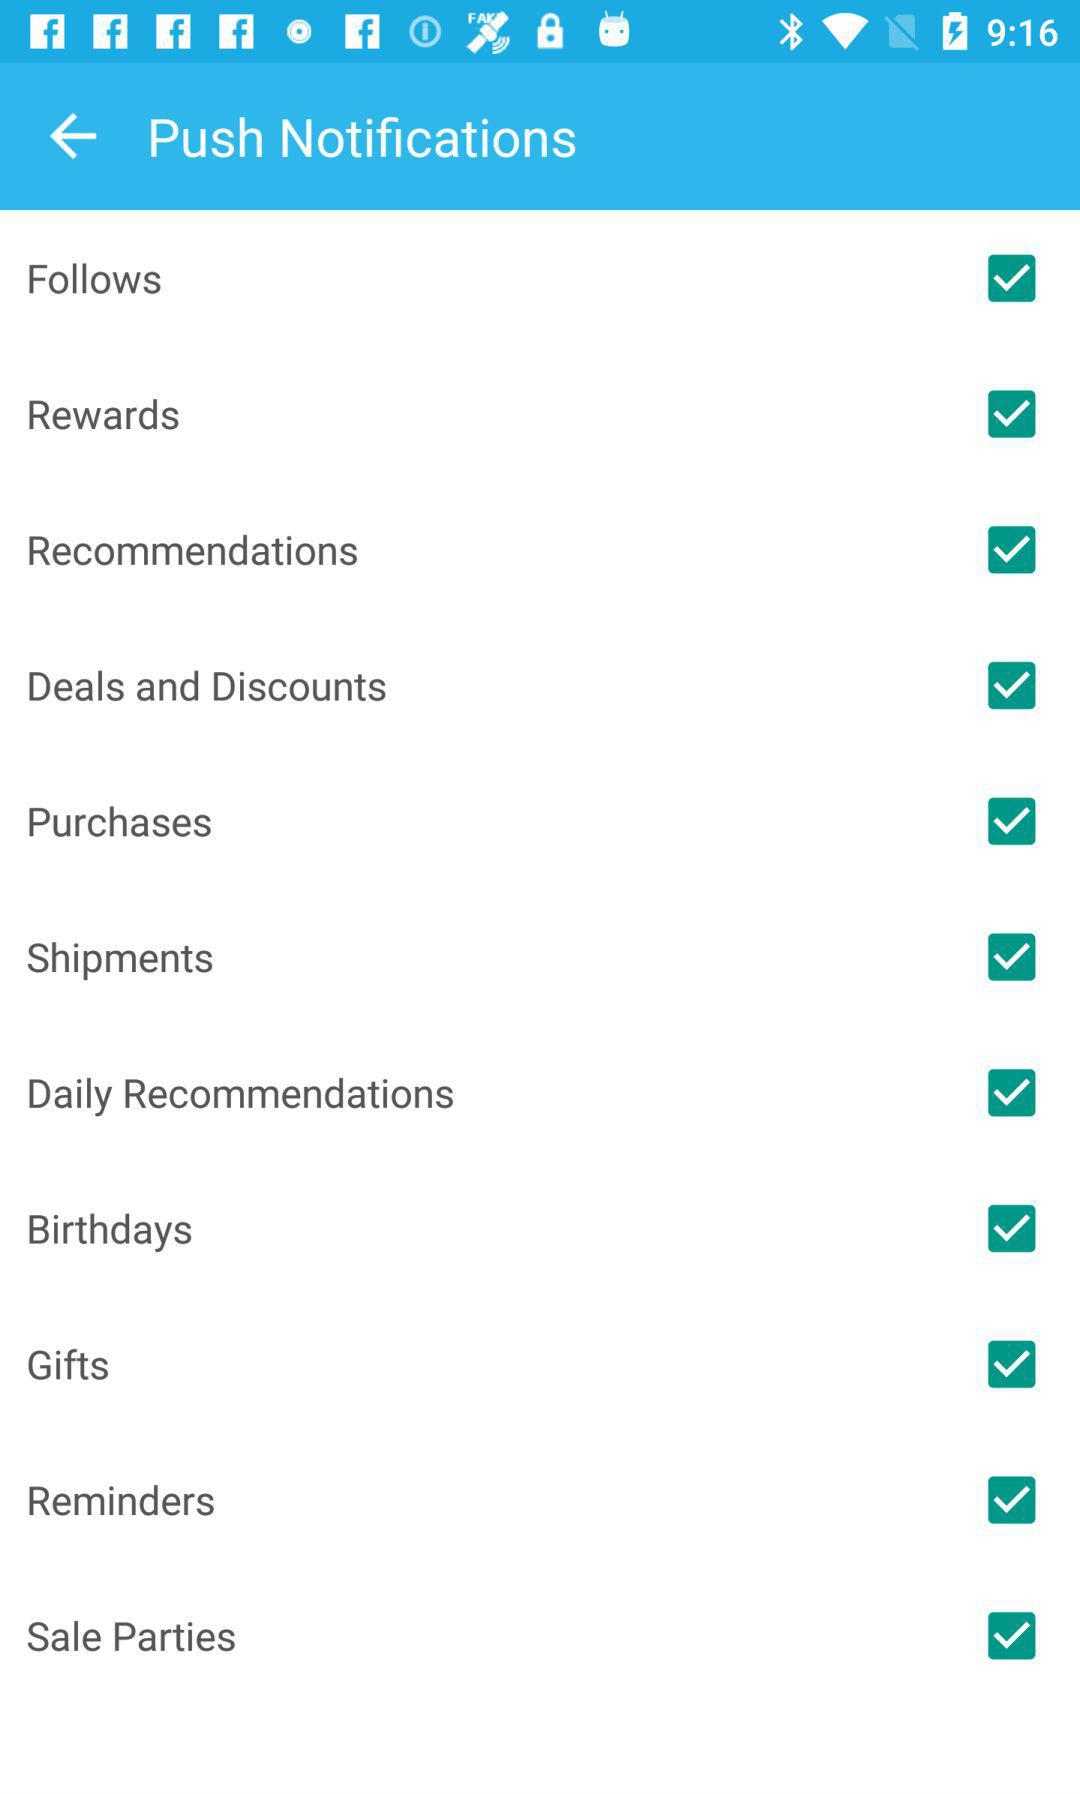CheckedTextView: (28, 390, 1036, 440), (28, 797, 1036, 847), (28, 1205, 1036, 1255), (28, 1339, 1036, 1389), (29, 254, 1036, 304), (29, 525, 1036, 575), (29, 661, 1036, 711), (29, 1067, 1036, 1117), (29, 1475, 1036, 1525), (27, 933, 1036, 982), (28, 1611, 1036, 1659)
Icon: (50, 111, 97, 161)
Text: (150, 115, 577, 160), (29, 1076, 455, 1117), (29, 669, 388, 704), (29, 534, 359, 566), (27, 941, 215, 982), (28, 1618, 237, 1653), (28, 1212, 193, 1255), (29, 1483, 217, 1517), (28, 805, 213, 839), (28, 399, 179, 432), (29, 261, 163, 296), (28, 1348, 111, 1381)
UpperTaskBar: (1, 1, 1080, 64)
